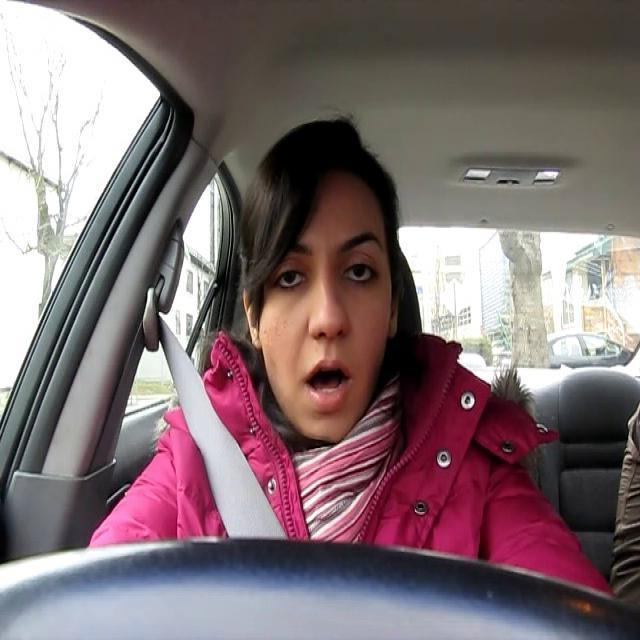open: (335, 224, 388, 296), (272, 236, 316, 299)
